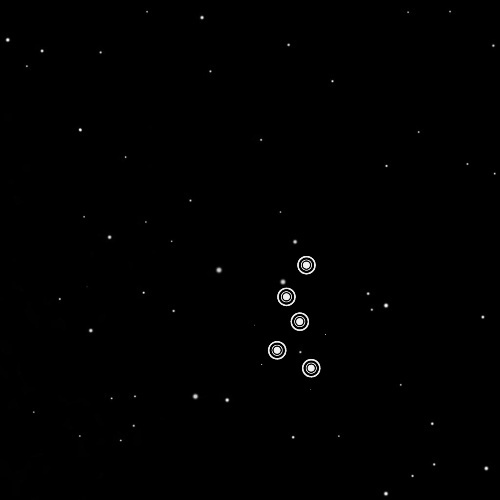cassiopeia: (262, 246, 326, 384)
